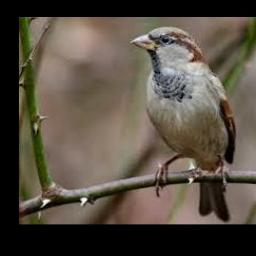Sparrow: (131, 27, 235, 221)
